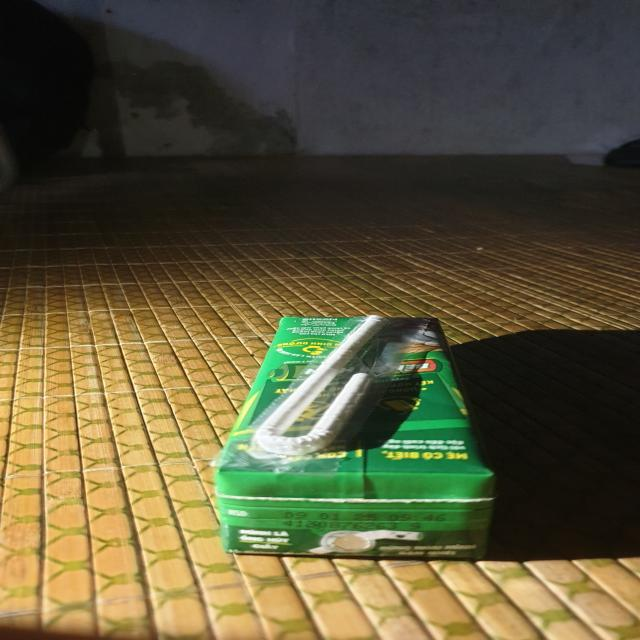Milo: (224, 315, 492, 557)
